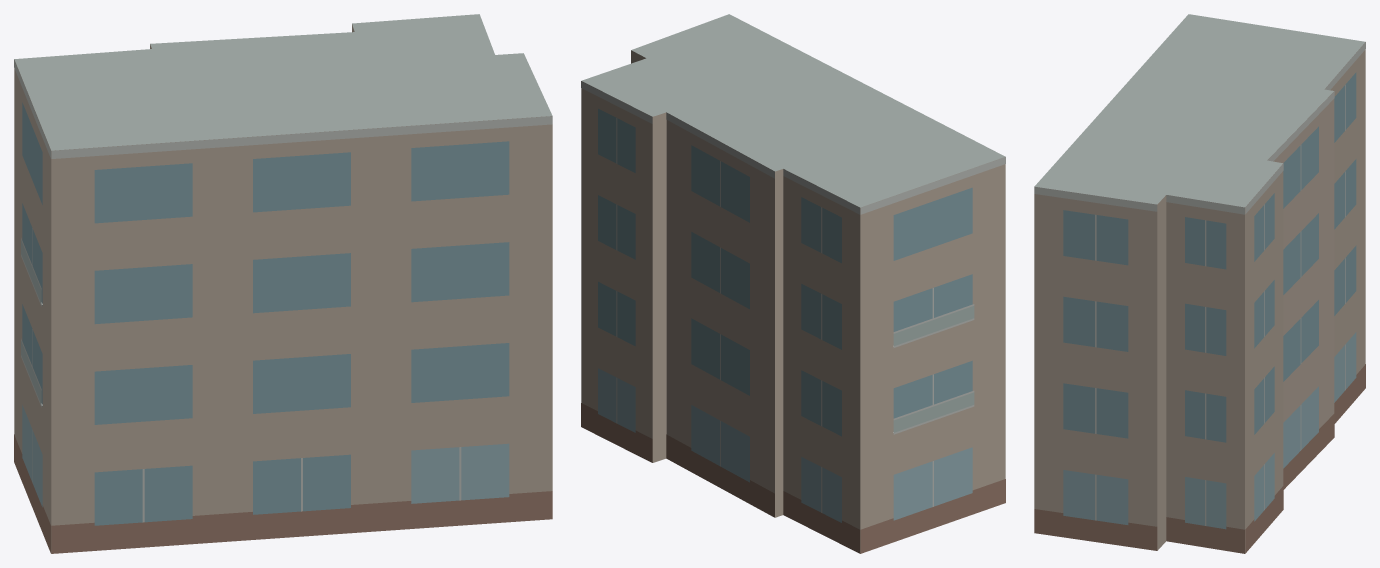
The model's file is survey-upis-32999346.glb.
3 views of the same model, side by side, from view 1: azimuth 30°, elevation 25°; view 2: azimuth 150°, elevation 25°; view 3: azimuth 270°, elevation 25° (orthographic). The views are drawn at different scales.
Visible parts, largest first — view 1: survey-upis-32999346.tmp; view 2: survey-upis-32999346.tmp; view 3: survey-upis-32999346.tmp.
Boxes of the visible parts, x1,y1,x2,y2 form: survey-upis-32999346.tmp: (14,14,552,553); survey-upis-32999346.tmp: (581,14,1005,553); survey-upis-32999346.tmp: (1034,14,1365,553).
Bounding box in the file's own units: 13.9 × 11.6 × 10.07.
